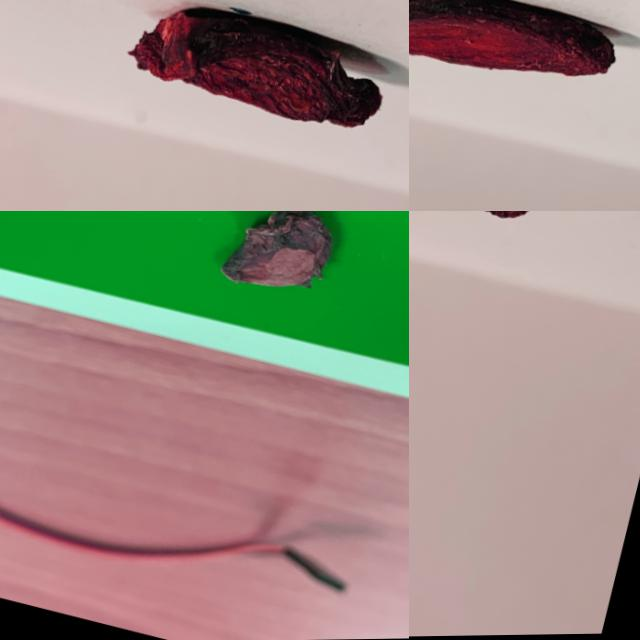Flat_cocoabeans: (28, 0, 408, 200), (409, 0, 639, 169), (159, 211, 408, 350)
